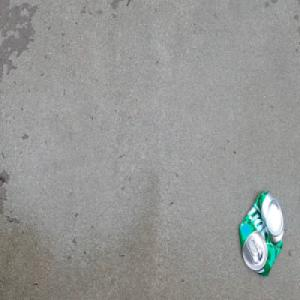SodaCan: (237, 187, 286, 278)
